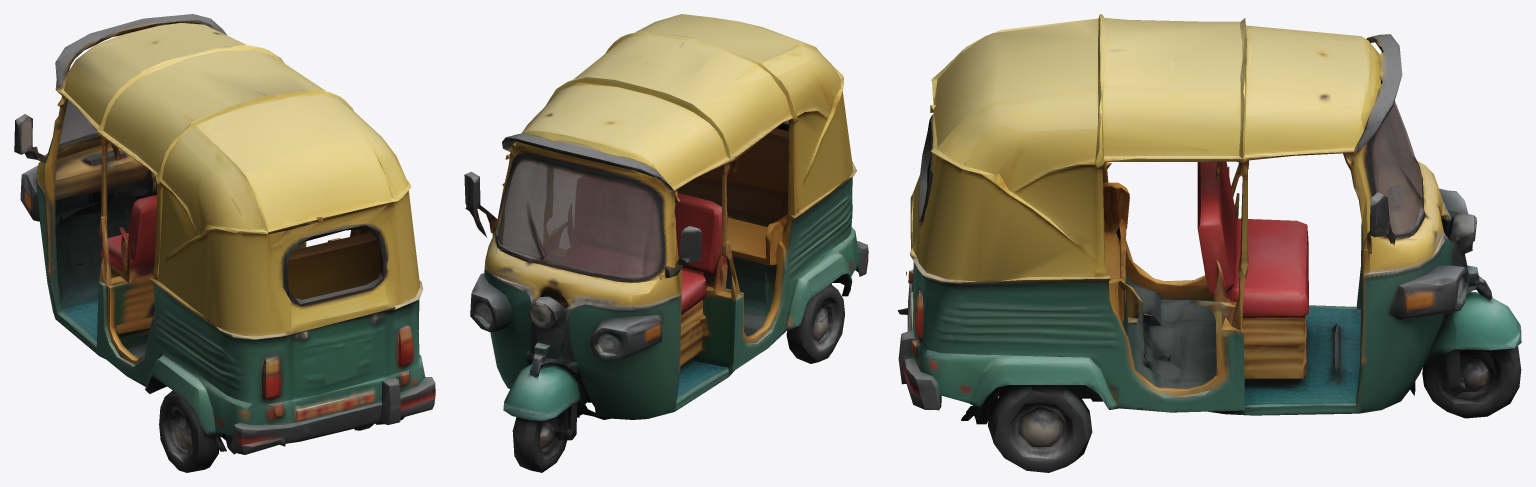
The model's file is auto.glb.
The picture shows the model from 3 angles, left to right: view 1: azimuth 30°, elevation 25°; view 2: azimuth 150°, elevation 25°; view 3: azimuth 270°, elevation 25°; orthographic projection. The views are drawn at different scales.
Visible parts, largest first — view 1: Autorickshaw; view 2: Autorickshaw; view 3: Autorickshaw.
Boxes of the visible parts, <box> form: Autorickshaw: <box>14,14,435,472</box>; Autorickshaw: <box>464,14,868,472</box>; Autorickshaw: <box>897,14,1521,472</box>.
Size of the model in its own units: 1.28 by 1.63 by 2.47.
Materials: 1 (1 with a texture image).
